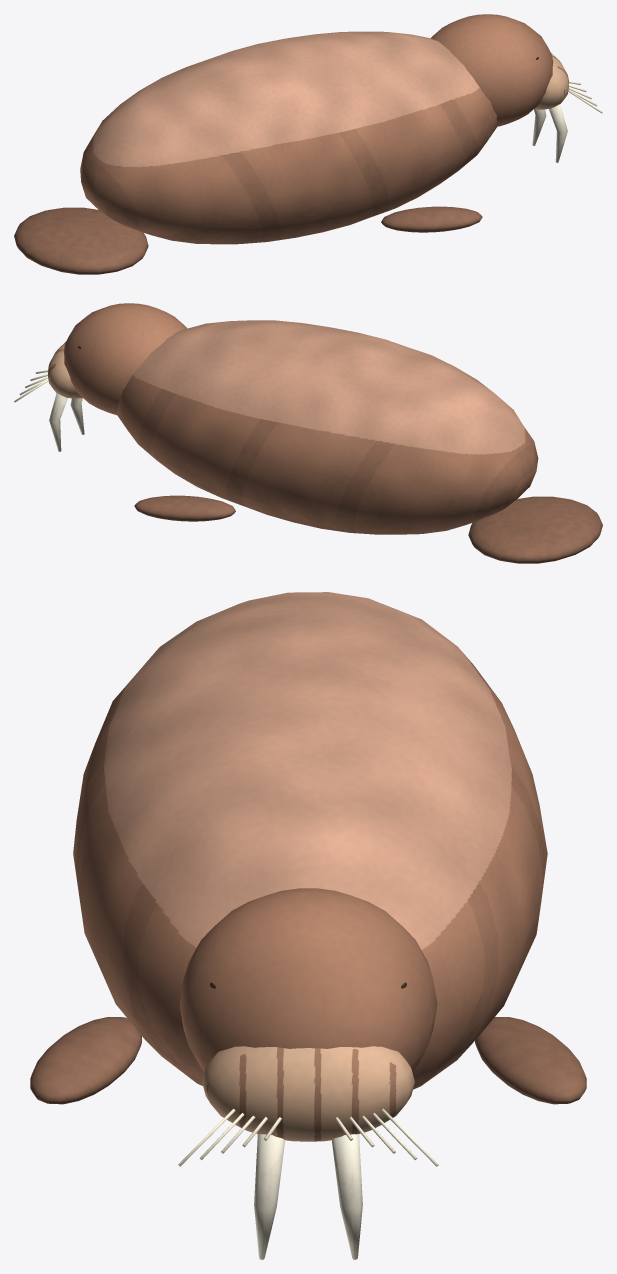
File: walrus.glb
3 renders of one model, top to bottom at view 1: azimuth 30°, elevation 25°; view 2: azimuth 150°, elevation 25°; view 3: azimuth 270°, elevation 25°, orthographic. The views are drawn at different scales.
Visible parts, largest first — view 1: Body, Head; view 2: Body, Head; view 3: Body, Head.
Boxes of the visible parts, <box> form: Body: <box>14,31,498,274</box>; Head: <box>431,14,602,162</box>; Body: <box>116,320,602,563</box>; Head: <box>14,303,187,451</box>; Body: <box>30,592,586,1104</box>; Head: <box>178,888,438,1259</box>.
Bounding box in the file's own units: 3.51 × 1.04 × 1.55.
Materials: 1 (1 with a texture image).
